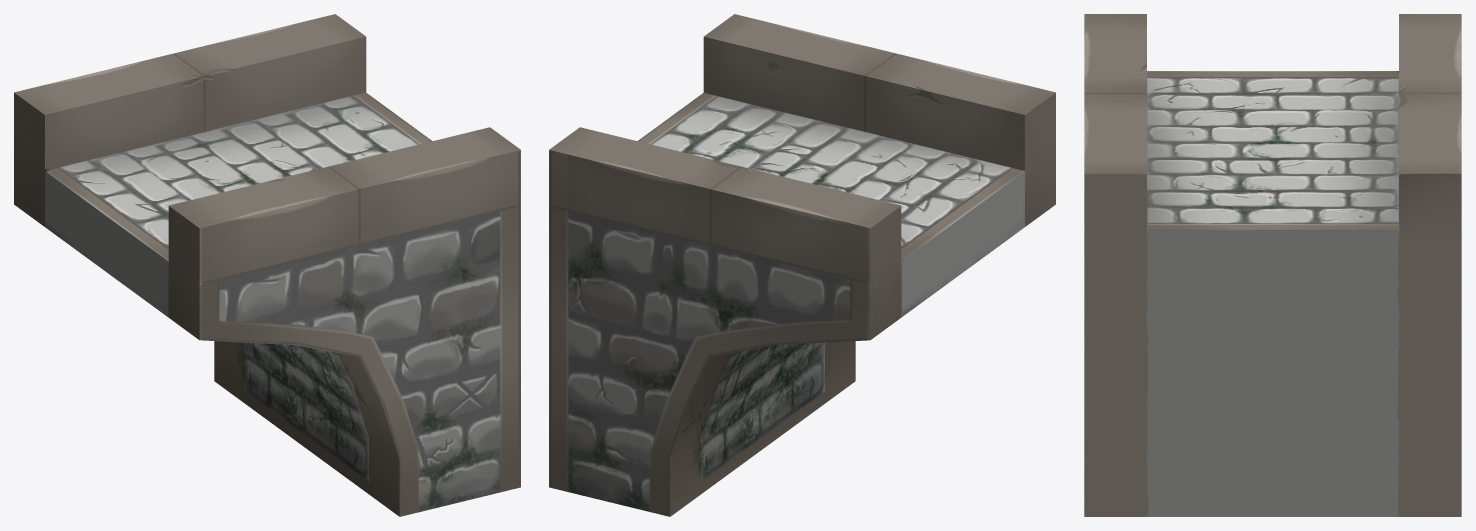
File: Bridge2V2.0.fbx
3 renders of one model, left to right at view 1: azimuth 30°, elevation 25°; view 2: azimuth 150°, elevation 25°; view 3: azimuth 270°, elevation 25°, orthographic.
Visible parts, largest first — view 1: pCube66; view 2: pCube66; view 3: pCube66.
Part boxes in pixels (x1,y1,x2,y2): pCube66: (14,14,520,516); pCube66: (549,14,1055,516); pCube66: (1084,14,1461,516).
Size of the model in its own units: 12 by 12.05 by 12.
Materials: 1 (1 with a texture image).
